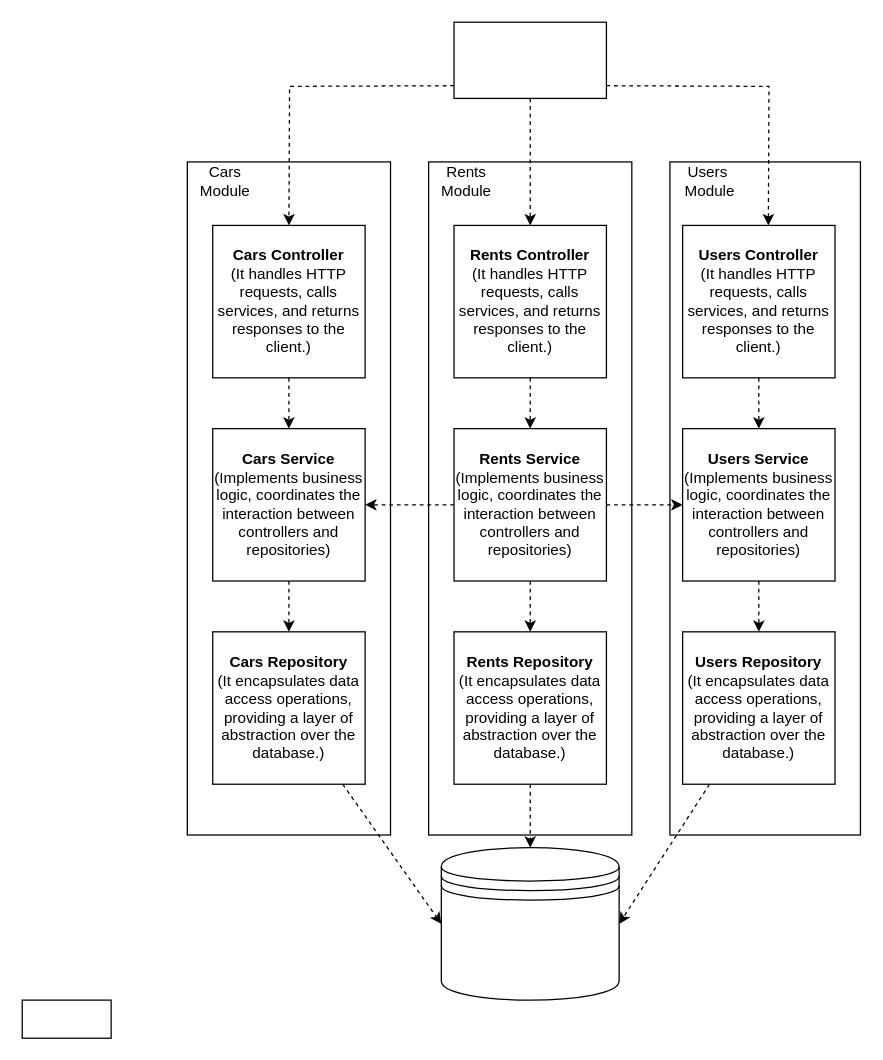
Image size: 883x1060. Some labels were removed from this diagram. Each missing label, with the centre of its shape:
"Database(Cars, Users, Rents) (SQLite)" belongs at (x=529, y=923).
"L3" belongs at (x=66, y=1018).
"RENT A CAR (CrudCars)" belongs at (x=529, y=59).
